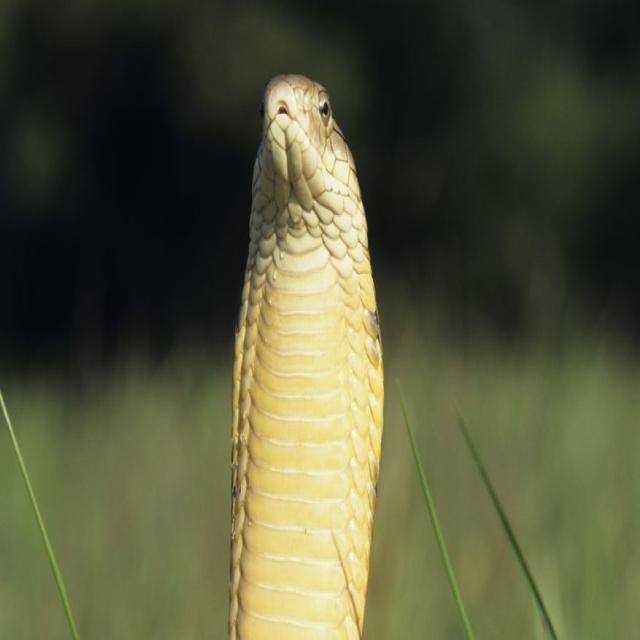Snake: (227, 70, 386, 638)
